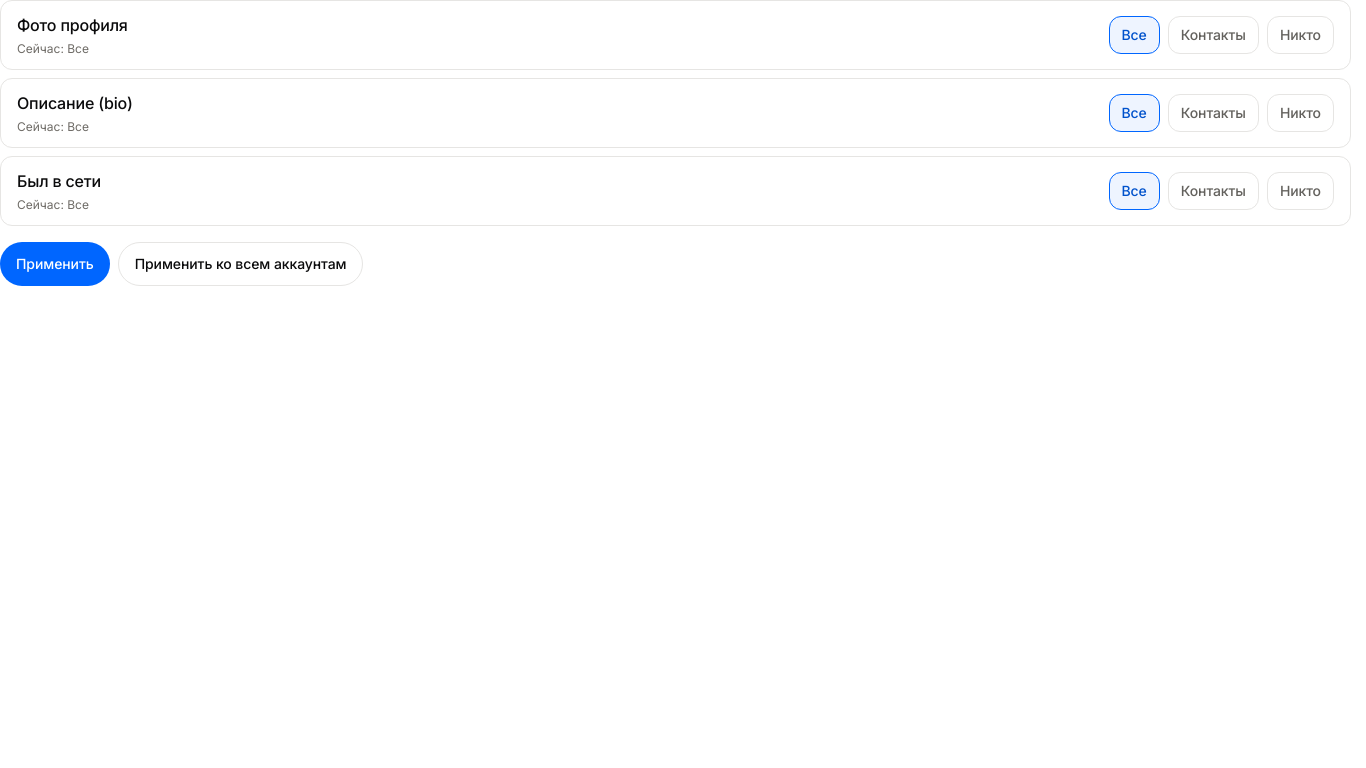
it: the fleet confirm does not warn when every pushed level is everybody
Check: the text "Фото профиля" is shown, box [17, 15, 128, 35]
Click the button "Применить ко всем аккаунтам". click: (240, 264)
box: [118, 242, 363, 286]
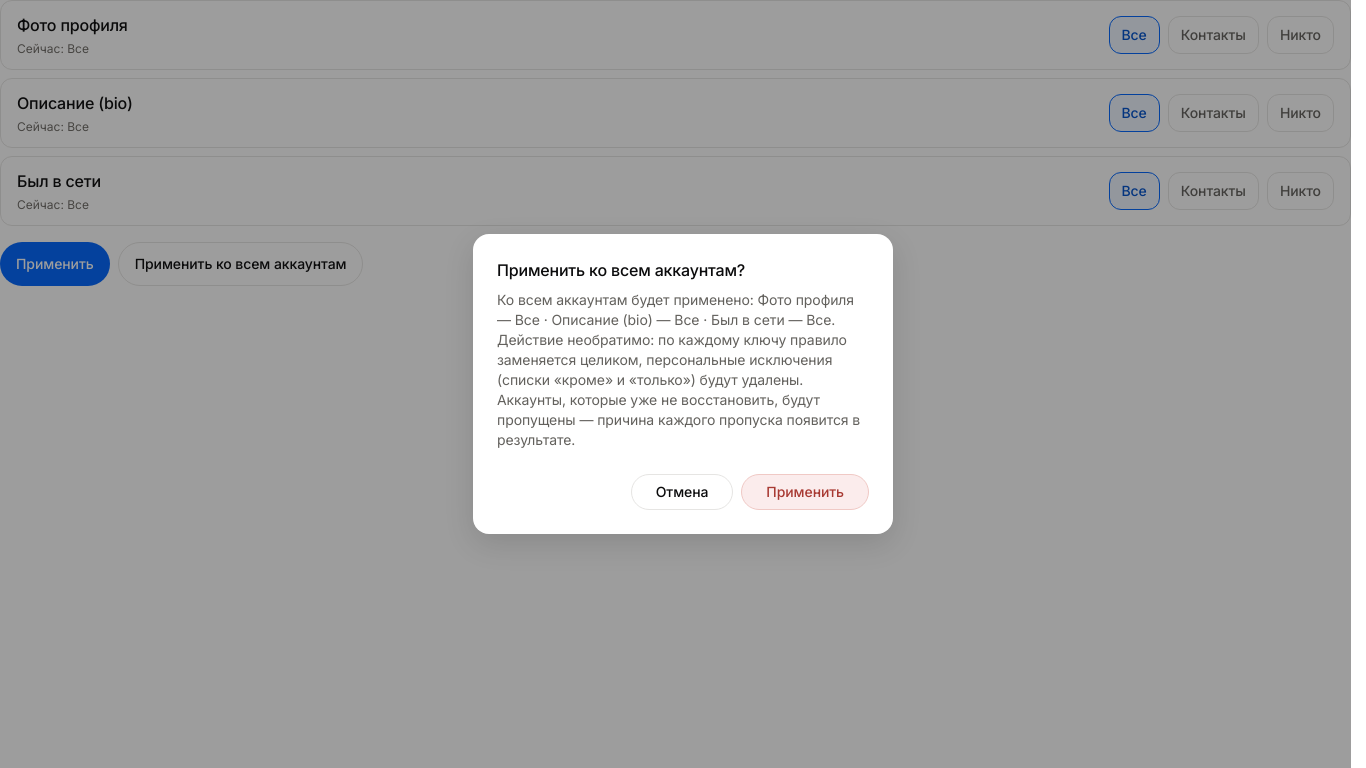
Check: the text "Применить ко всем аккаунтам?" is shown, box [497, 260, 745, 280]
